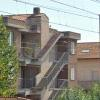stairs: (31, 31, 65, 63)
